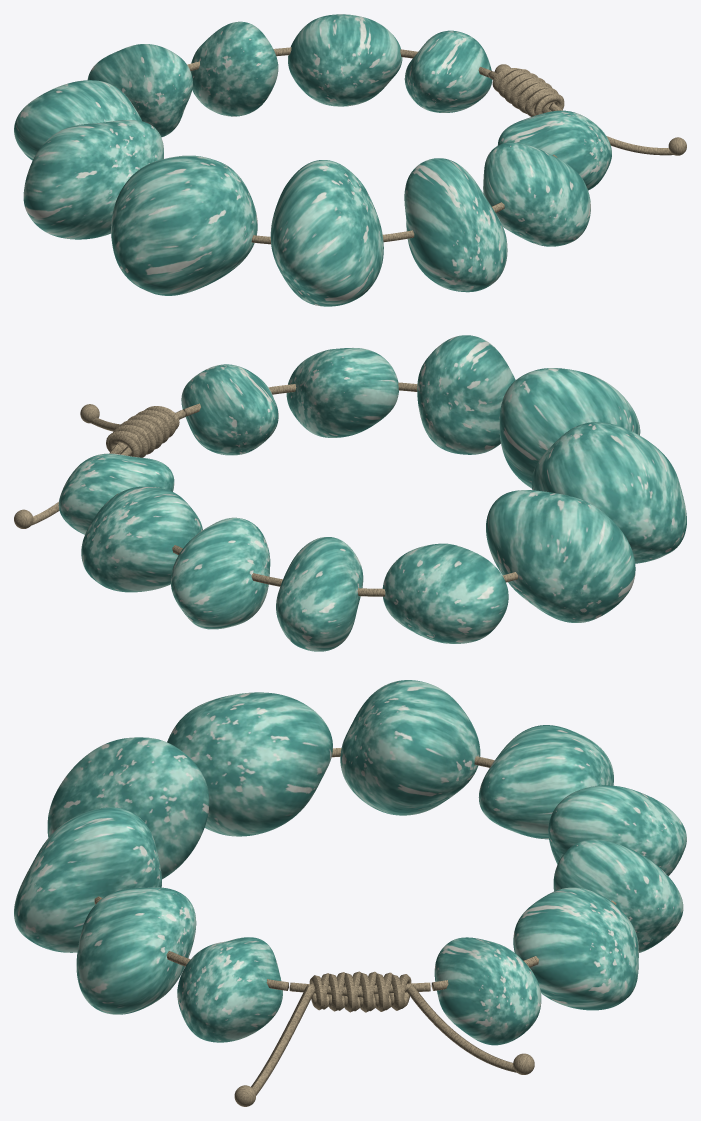
Rendered from amazonit.glb.
The picture shows the model from 3 angles, top to bottom: view 1: azimuth 30°, elevation 25°; view 2: azimuth 150°, elevation 25°; view 3: azimuth 270°, elevation 25°; orthographic projection. The views are drawn at different scales.
Parts seen in each view (by area): view 1: bead_pebble_1.001, bead_pebble_2.001, bead_pebble_0.001, bead_pebble_3.001, bead_pebble_4.001, bead_pebble_1, bead_pebble_2, bead_pebble_3, bead_pebble_0, bead_pebble_4, bead_pebble_0.002, nic.020 (+1 smaller); view 2: bead_pebble_0.001, bead_pebble_1.001, bead_pebble_4, bead_pebble_1, bead_pebble_3.001, bead_pebble_2.001, bead_pebble_2, bead_pebble_4.001, bead_pebble_3, bead_pebble_0.002, bead_pebble_0, nic.020; view 3: bead_pebble_1.001, bead_pebble_0.001, bead_pebble_3.001, bead_pebble_2.001, bead_pebble_4.001, bead_pebble_1, bead_pebble_4, bead_pebble_0, bead_pebble_0.002, bead_pebble_3, bead_pebble_2, koncowka.040 (+2 smaller).
Boxes of the visible parts, x1,y1,x2,y2 form: bead_pebble_1.001: (111, 155, 257, 295); bead_pebble_2.001: (270, 160, 383, 306); bead_pebble_0.001: (23, 120, 163, 239); bead_pebble_3.001: (404, 158, 507, 292); bead_pebble_4.001: (483, 142, 590, 246); bead_pebble_1: (288, 14, 402, 106); bead_pebble_2: (190, 21, 278, 116); bead_pebble_3: (87, 44, 192, 137); bead_pebble_0: (404, 30, 492, 112); bead_pebble_4: (14, 80, 141, 160); bead_pebble_0.002: (497, 110, 611, 190); nic.020: (187, 47, 557, 244); bead_pebble_0.001: (486, 490, 635, 622); bead_pebble_1.001: (531, 422, 686, 563); bead_pebble_4: (382, 543, 508, 643); bead_pebble_1: (81, 486, 202, 592); bead_pebble_3.001: (417, 335, 515, 454); bead_pebble_2.001: (499, 368, 640, 488); bead_pebble_2: (171, 517, 270, 629); bead_pebble_4.001: (286, 348, 398, 437); bead_pebble_3: (276, 537, 363, 651); bead_pebble_0.002: (181, 364, 278, 455); bead_pebble_0: (58, 453, 174, 534); nic.020: (115, 382, 517, 596); bead_pebble_1.001: (167, 692, 332, 836); bead_pebble_0.001: (340, 680, 480, 815); bead_pebble_3.001: (14, 807, 161, 952); bead_pebble_2.001: (47, 737, 209, 879); bead_pebble_4.001: (76, 887, 196, 1014); bead_pebble_1: (513, 887, 638, 1010); bead_pebble_4: (478, 725, 613, 839); bead_pebble_0: (434, 937, 541, 1045); bead_pebble_0.002: (177, 937, 282, 1042); bead_pebble_3: (548, 785, 686, 875); bead_pebble_2: (553, 839, 683, 952); koncowka.040: (406, 985, 516, 1072).
Size of the model in its own units: 8.12 by 1.64 by 6.85.
4 materials, 4 textured.
